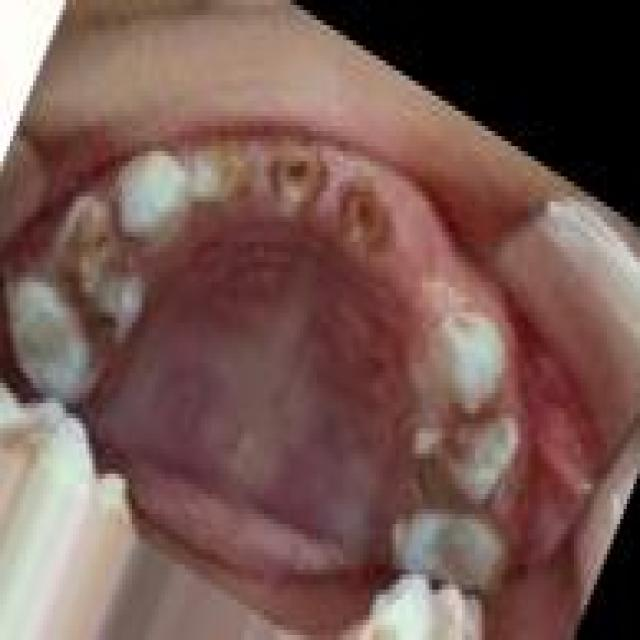caries: (28, 189, 145, 359), (412, 398, 528, 524), (335, 149, 398, 264), (181, 123, 260, 211), (267, 118, 326, 224)
